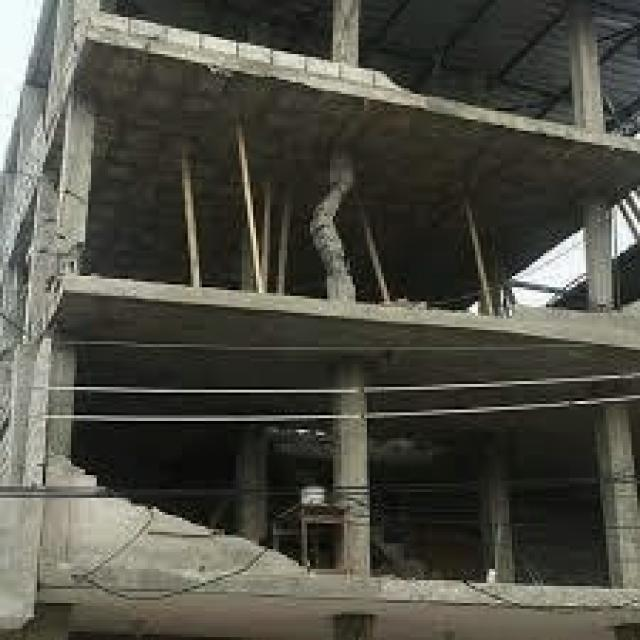Buckling_Beam: (267, 96, 391, 308), (31, 90, 104, 288)
